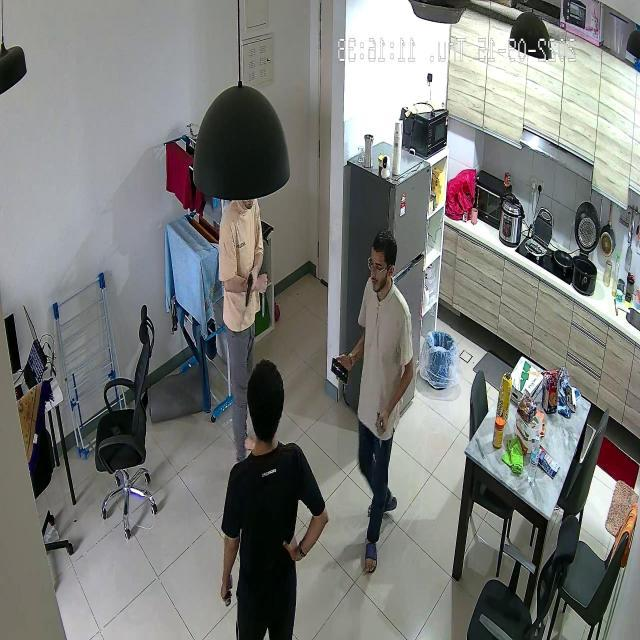Gun: (238, 266, 262, 313)
